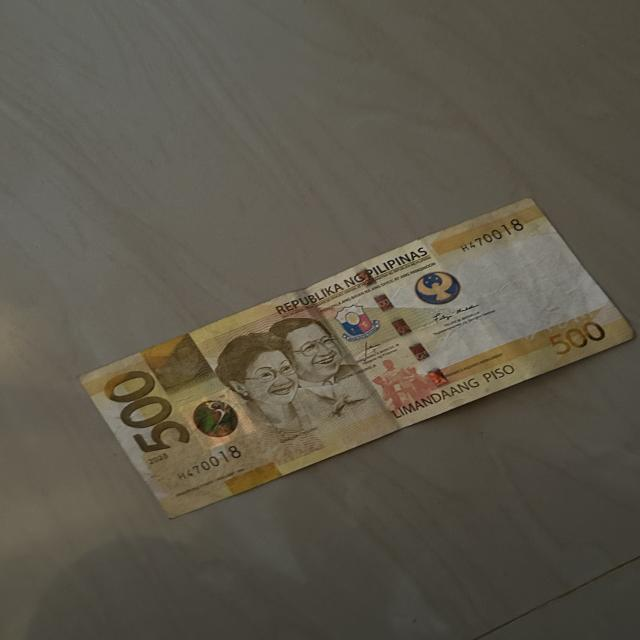concealed_value: (145, 352, 207, 387)
optically_variable_device: (194, 398, 241, 436)
serial_number: (448, 212, 550, 256)
value: (102, 370, 214, 468)
